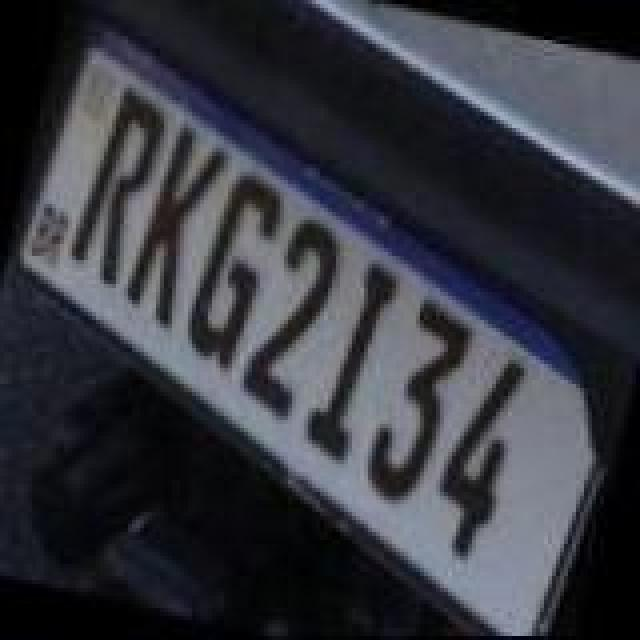2: (228, 208, 348, 428)
3: (356, 290, 480, 518)
4: (420, 346, 536, 566)
G: (174, 162, 290, 374)
I: (298, 254, 406, 470)
K: (120, 118, 236, 338)
R: (62, 84, 174, 292)
